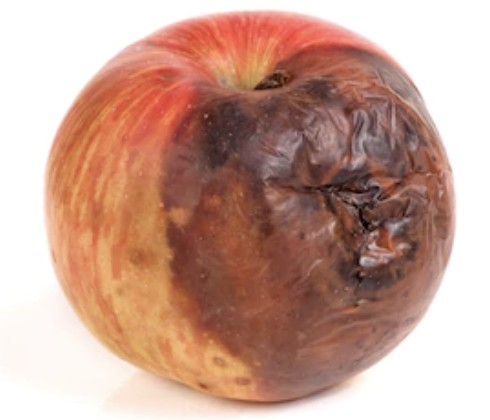rotten_apple: (42, 9, 455, 405)
